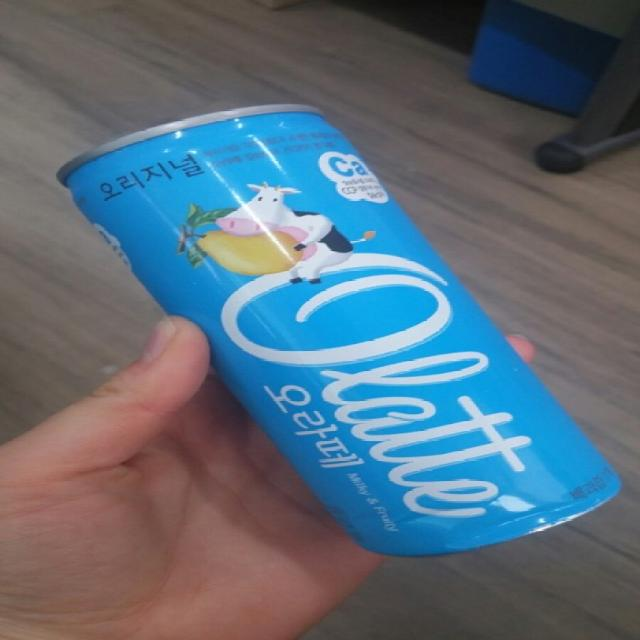Cans: (8, 84, 630, 572)
